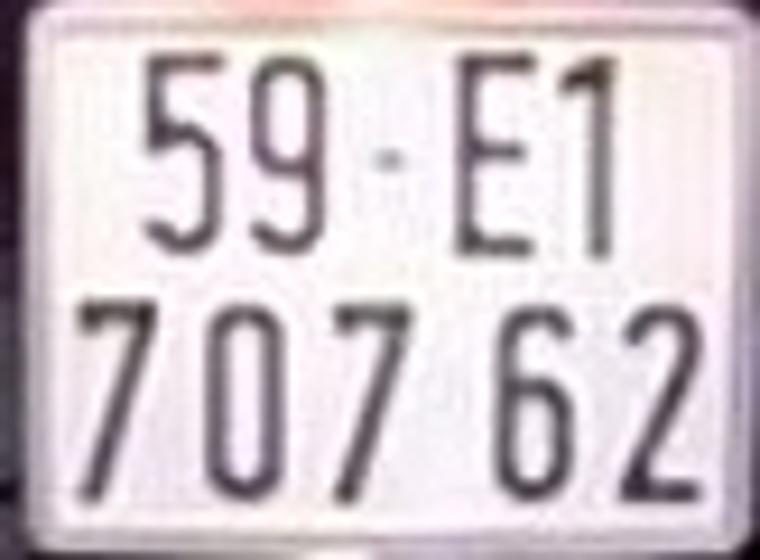.: (370, 146, 407, 177)
0: (201, 301, 289, 510)
1: (554, 52, 621, 261)
2: (611, 299, 708, 506)
5: (139, 49, 232, 258)
6: (487, 301, 583, 503)
7: (326, 296, 425, 500), (69, 297, 163, 509)
9: (242, 47, 333, 262)
E: (451, 49, 542, 263)
